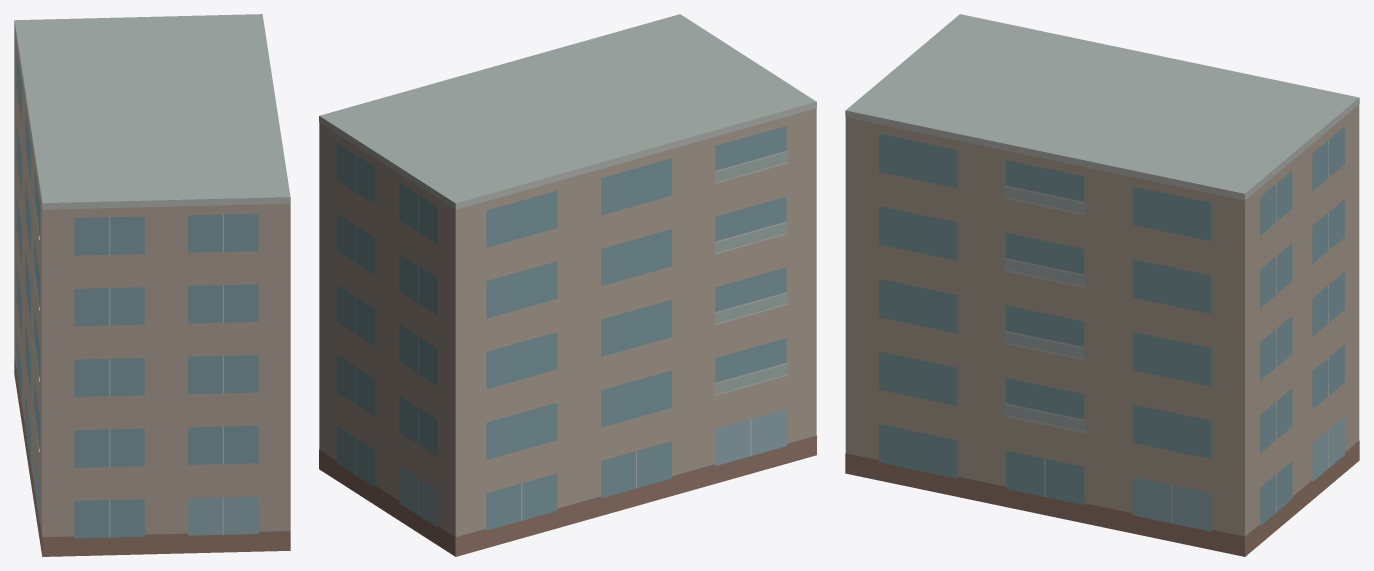
File: survey-upis-32889612.glb
The picture shows the model from 3 angles, left to right: view 1: azimuth 30°, elevation 25°; view 2: azimuth 150°, elevation 25°; view 3: azimuth 270°, elevation 25°; orthographic projection. The views are drawn at different scales.
Visible parts, largest first — view 1: survey-upis-32889612.tmp; view 2: survey-upis-32889612.tmp; view 3: survey-upis-32889612.tmp.
Boxes of the visible parts, x1,y1,x2,y2 form: survey-upis-32889612.tmp: (14, 14, 290, 556); survey-upis-32889612.tmp: (319, 14, 816, 556); survey-upis-32889612.tmp: (845, 14, 1359, 556).
Size of the model in its own units: 14.03 by 13.2 by 16.95.
